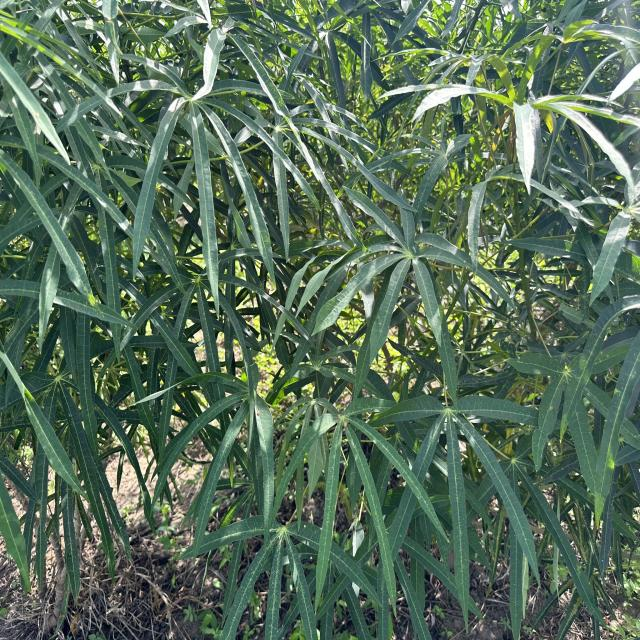Mosca: (482, 489, 507, 515), (303, 547, 323, 569), (543, 400, 561, 420), (300, 520, 318, 540), (282, 582, 299, 601), (250, 409, 271, 423), (286, 423, 307, 433)
